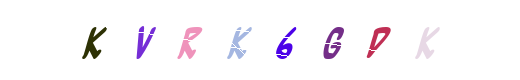6: (220, 0, 300, 80)
D: (309, 0, 389, 80)
G: (268, 0, 348, 80)
K: (53, 0, 133, 80), (190, 0, 270, 80), (338, 0, 418, 80)
R: (174, 0, 254, 80)
V: (171, 0, 251, 80)
